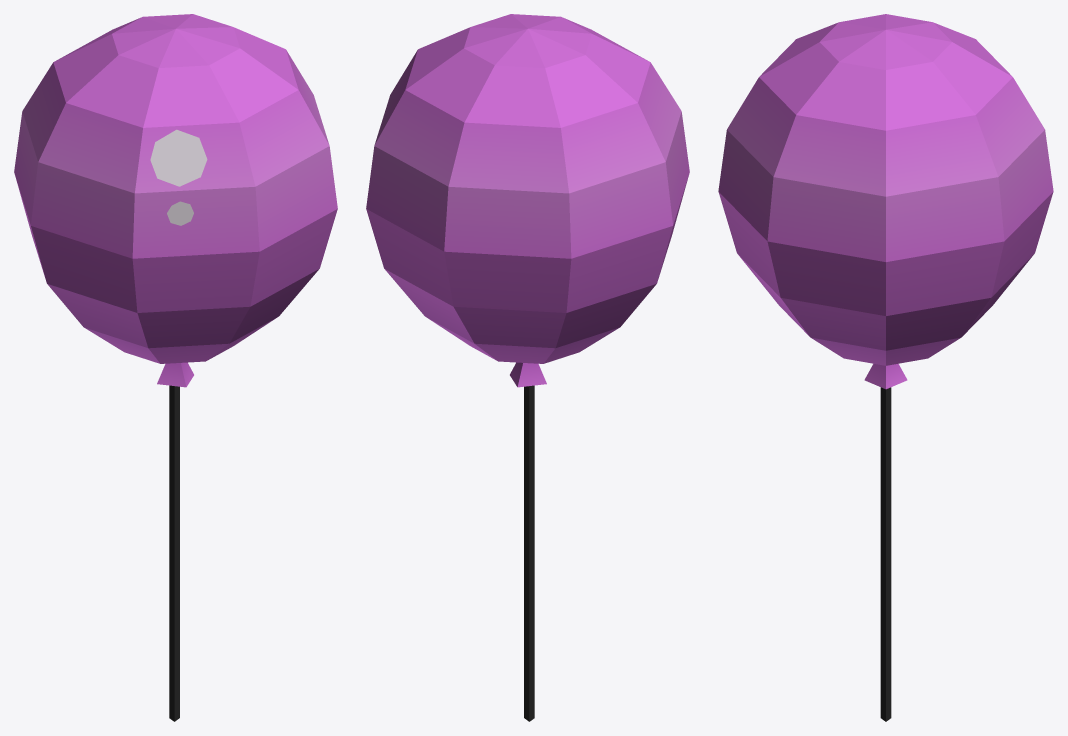
The model's file is AnniversaryPinkBaloon.glb.
3 renders of one model, left to right at view 1: azimuth 30°, elevation 25°; view 2: azimuth 150°, elevation 25°; view 3: azimuth 270°, elevation 25°, orthographic.
Visible parts, largest first — view 1: AnniversaryPinkBaloon; view 2: AnniversaryPinkBaloon; view 3: AnniversaryPinkBaloon.
Boxes of the visible parts, x1,y1,x2,y2 form: AnniversaryPinkBaloon: (14,14,337,721); AnniversaryPinkBaloon: (366,14,689,721); AnniversaryPinkBaloon: (718,14,1053,721).
Bounding box in the file's own units: 0.5698 × 1.29 × 0.5698.
